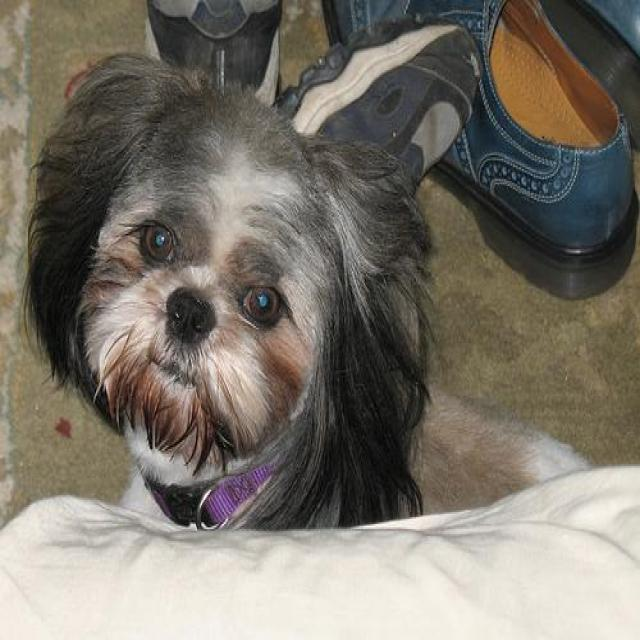shih_tzu: (23, 49, 428, 526)
